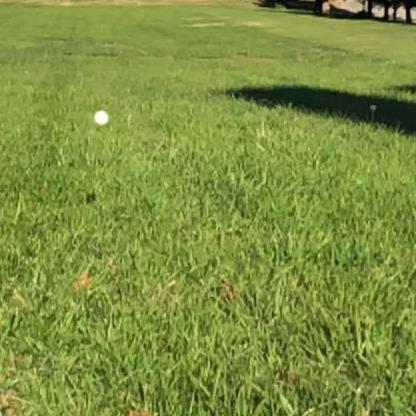golfball: (92, 107, 107, 122)
